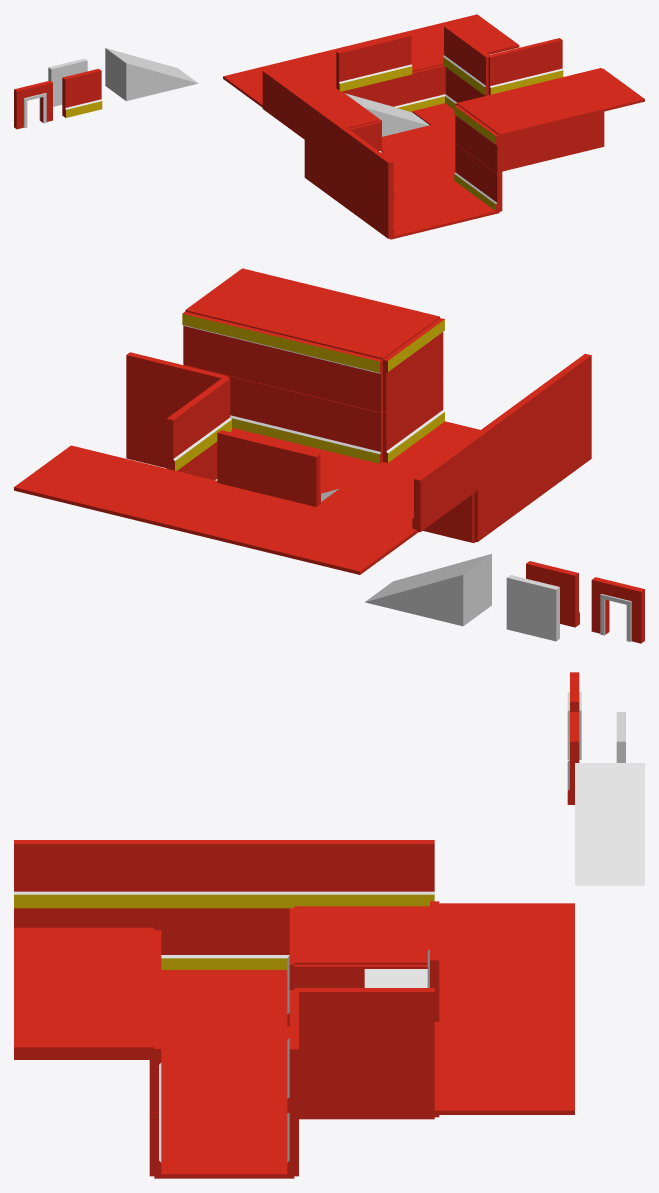
The model's file is buildingPieces.glb.
3 renders of one model, top to bottom at view 1: azimuth 30°, elevation 25°; view 2: azimuth 150°, elevation 25°; view 3: azimuth 270°, elevation 25°, orthographic. The views are drawn at different scales.
Parts seen in each view (by area): view 1: Cube.028, Cube.002, Cube.068, Cube.079, Cube.069, Cube.080, Cube.022, Cube.041, Cube, Cube.027, Cube.040, Cube.075 (+51 smaller); view 2: Cube.028, Cube.001, Cube.068, Cube.052, Cube.080, Cube.050, Cube.069, Cube.051, Cube.053, Cube.042, Cube.040, Cube.043 (+50 smaller); view 3: Cube.028, Cube.073, Cube.074, Cube.076, Cube.075, Cube.077, Cube.071, Cube.072, Cube.029, Cube.078, Cube.031, Cube.011 (+52 smaller).
Boxes of the visible parts, x1,y1,x2,y2 form: Cube.028: [105, 48, 198, 101]; Cube.002: [62, 68, 102, 117]; Cube.068: [336, 42, 375, 91]; Cube.079: [488, 47, 526, 94]; Cube.069: [373, 34, 412, 82]; Cube.080: [523, 38, 563, 85]; Cube.022: [411, 65, 445, 110]; Cube.041: [568, 111, 604, 155]; Cube: [14, 80, 52, 129]; Cube.027: [345, 93, 429, 136]; Cube.040: [532, 120, 567, 164]; Cube.075: [367, 146, 394, 200]; Cube.028: [365, 554, 491, 626]; Cube.001: [506, 575, 559, 641]; Cube.068: [267, 442, 320, 506]; Cube.052: [330, 347, 382, 412]; Cube.080: [126, 352, 178, 416]; Cube.050: [232, 323, 283, 388]; Cube.069: [217, 430, 270, 494]; Cube.051: [182, 311, 234, 376]; Cube.053: [281, 335, 332, 400]; Cube.042: [330, 401, 382, 463]; Cube.040: [232, 377, 282, 439]; Cube.043: [281, 389, 331, 451]; Cube.028: [575, 763, 644, 885]; Cube.073: [154, 840, 224, 908]; Cube.074: [224, 840, 294, 908]; Cube.076: [84, 840, 154, 908]; Cube.075: [14, 840, 83, 908]; Cube.077: [364, 988, 434, 1055]; Cube.071: [294, 840, 364, 906]; Cube.072: [364, 840, 434, 906]; Cube.029: [364, 1055, 434, 1119]; Cube.078: [294, 988, 364, 1055]; Cube.031: [299, 1055, 364, 1119]; Cube.011: [154, 908, 224, 969].
Size of the model in its own units: 38.17 by 6.2 by 27.
